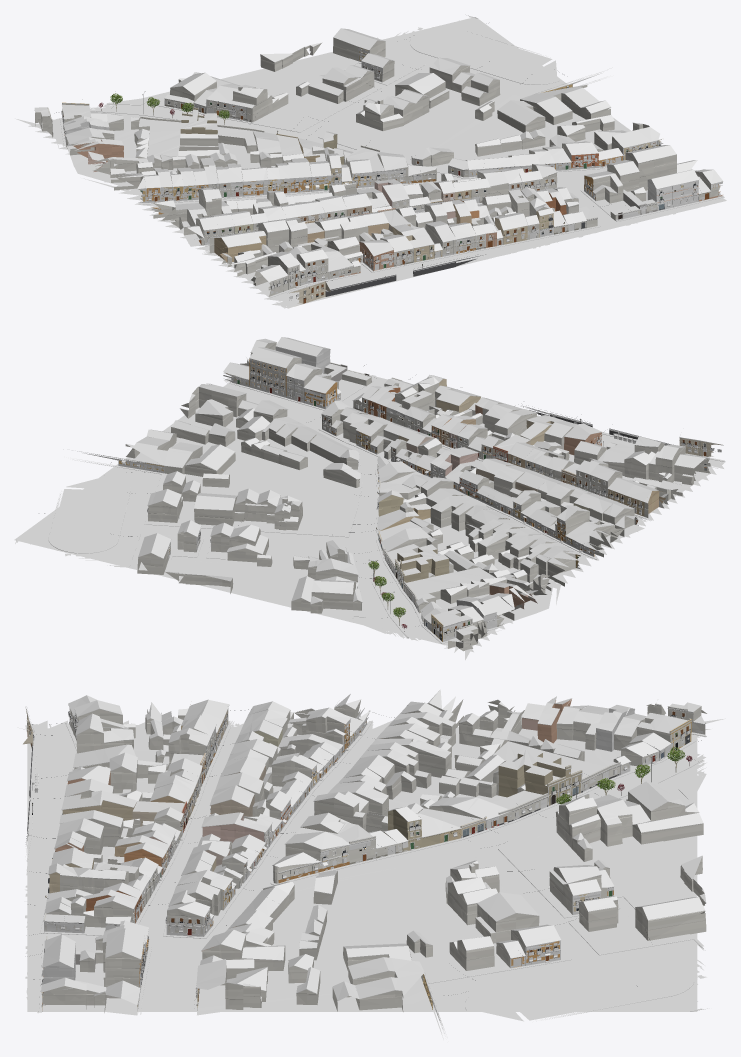
Rendered from zona_1_-1.glb.
3 renders of one model, top to bottom at view 1: azimuth 30°, elevation 25°; view 2: azimuth 150°, elevation 25°; view 3: azimuth 270°, elevation 25°, orthographic. The views are drawn at different scales.
Visible parts, largest first — view 1: z_tejados_1_-1, z_casas_1_-1, z_calle_1_-1, z_fachadas_1_-1, z_casas_planas_1_-1, z_suelo_1_-1, z_arboles_1_-1; view 2: z_tejados_1_-1, z_casas_1_-1, z_calle_1_-1, z_fachadas_1_-1, z_casas_planas_1_-1, z_suelo_1_-1; view 3: z_calle_1_-1, z_tejados_1_-1, z_casas_1_-1, z_suelo_1_-1, z_fachadas_1_-1, z_casas_planas_1_-1, z_arboles_1_-1.
Boxes of the visible parts, x1,y1,x2,y2 form: z_tejados_1_-1: [47, 28, 723, 293]; z_casas_1_-1: [34, 38, 721, 306]; z_calle_1_-1: [15, 15, 726, 308]; z_fachadas_1_-1: [47, 47, 722, 303]; z_casas_planas_1_-1: [34, 77, 657, 296]; z_suelo_1_-1: [52, 16, 721, 307]; z_arboles_1_-1: [98, 91, 422, 267]; z_tejados_1_-1: [110, 337, 723, 638]; z_casas_1_-1: [119, 342, 722, 650]; z_calle_1_-1: [14, 370, 725, 660]; z_fachadas_1_-1: [80, 358, 721, 641]; z_casas_planas_1_-1: [180, 363, 693, 651]; z_suelo_1_-1: [16, 365, 724, 646]; z_calle_1_-1: [25, 712, 725, 1039]; z_tejados_1_-1: [23, 689, 706, 1004]; z_casas_1_-1: [23, 699, 706, 1012]; z_suelo_1_-1: [24, 709, 706, 1011]; z_fachadas_1_-1: [26, 703, 705, 1025]; z_casas_planas_1_-1: [27, 702, 705, 1007]; z_arboles_1_-1: [32, 746, 692, 814].
Bounding box in the file's own units: 232 × 15.22 × 211.
